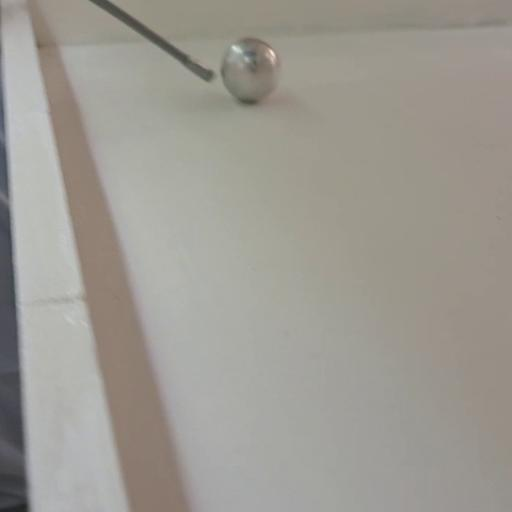alive: (219, 36, 283, 104)
